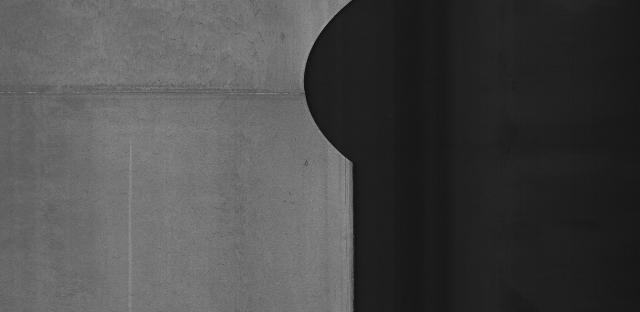welding_line: (0, 76, 305, 113)
